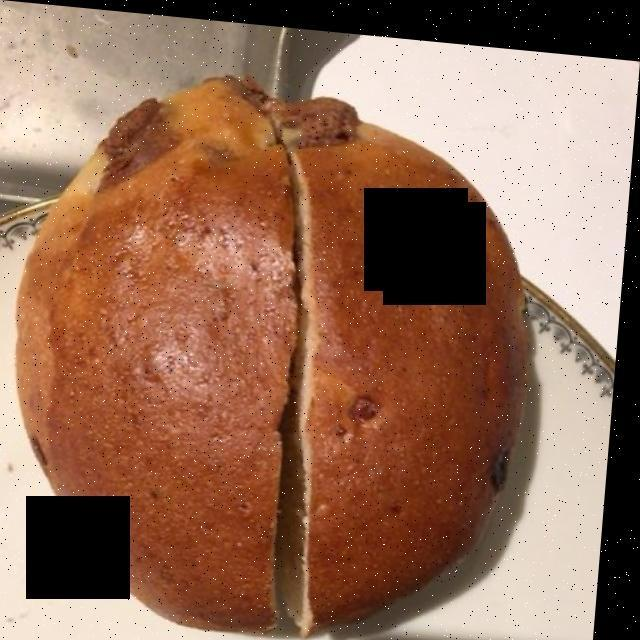bread: (21, 72, 529, 615)
